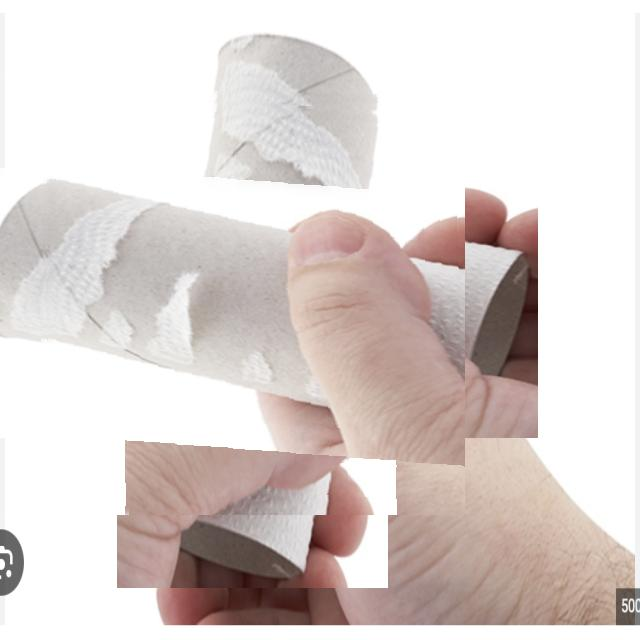biodegradable: (40, 90, 465, 515)
